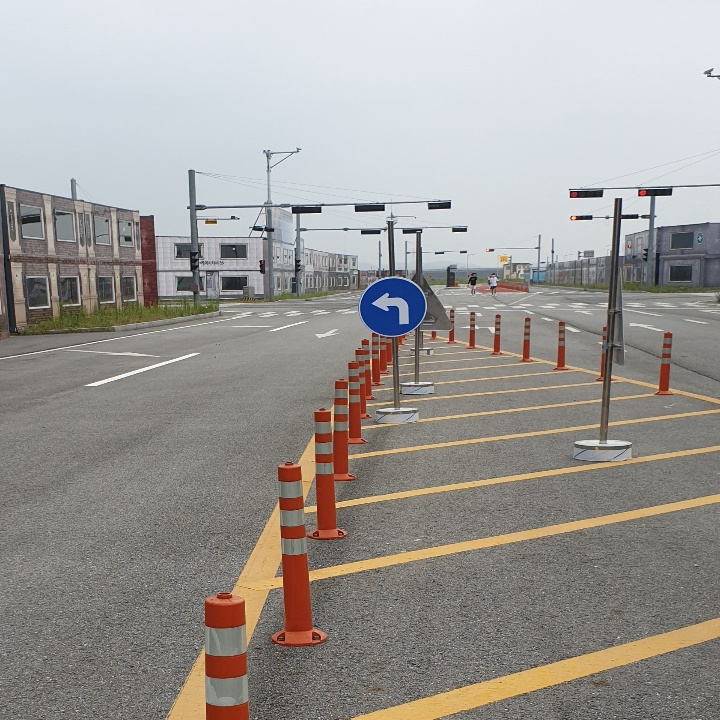left: (365, 285, 419, 333)
